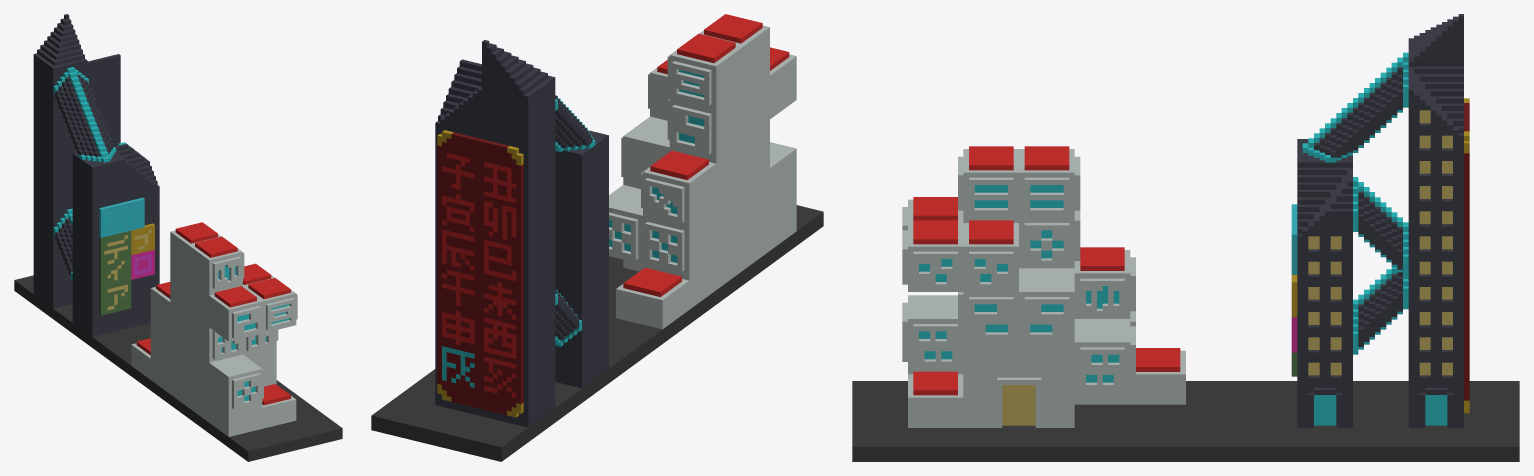
File: SM_Environment_Street11.fbx
The picture shows the model from 3 angles, left to right: view 1: azimuth 30°, elevation 25°; view 2: azimuth 150°, elevation 25°; view 3: azimuth 270°, elevation 25°; orthographic projection. The views are drawn at different scales.
Parts seen in each view (by area): view 1: Street11; view 2: Street11; view 3: Street11.
Boxes of the visible parts, x1,y1,x2,y2 form: Street11: (14,14,342,461); Street11: (371,14,823,461); Street11: (852,14,1519,461).
Size of the model in its own units: 560 by 1600 by 2400.
5 materials, 1 textured.
